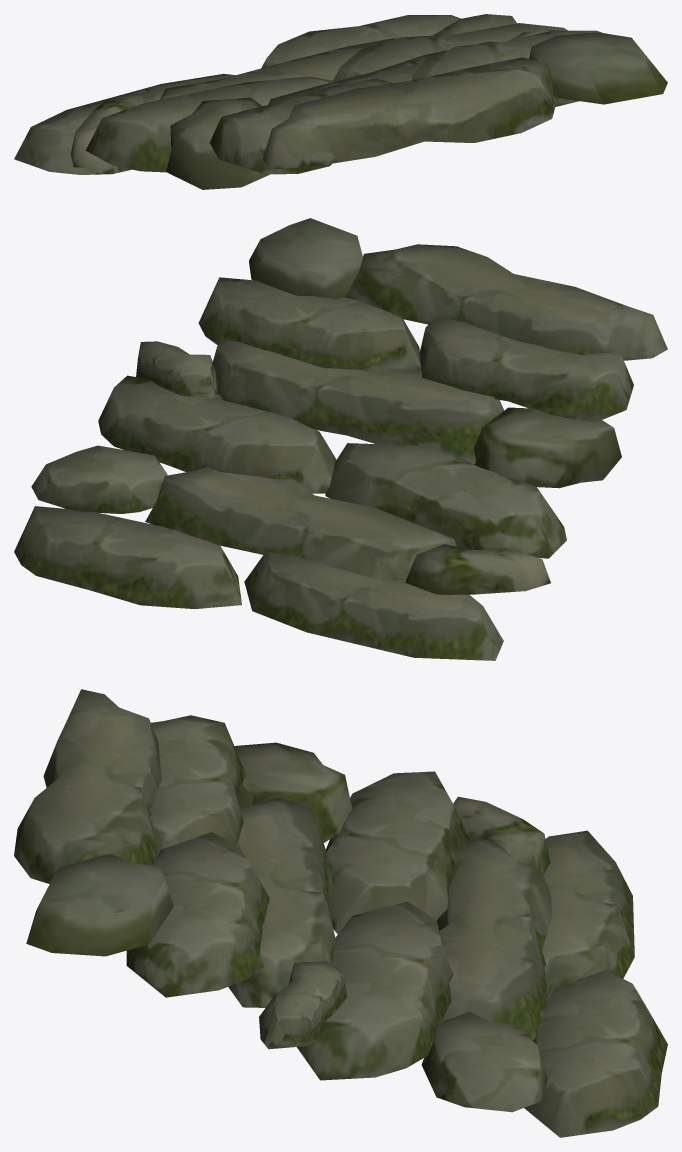
3 renders of one model, top to bottom at view 1: azimuth 30°, elevation 25°; view 2: azimuth 150°, elevation 25°; view 3: azimuth 270°, elevation 25°, orthographic. The views are drawn at different scales.
Visible parts, largest first — view 1: Mesh_polySurface2467; view 2: Mesh_polySurface2467; view 3: Mesh_polySurface2467.
Part boxes in pixels (x1=…): Mesh_polySurface2467: x1=14, y1=14, x2=667, y2=189; Mesh_polySurface2467: x1=14, y1=218, x2=667, y2=660; Mesh_polySurface2467: x1=14, y1=689, x2=667, y2=1137.
Bounding box in the file's own units: 20.62 × 6.84 × 19.89.
